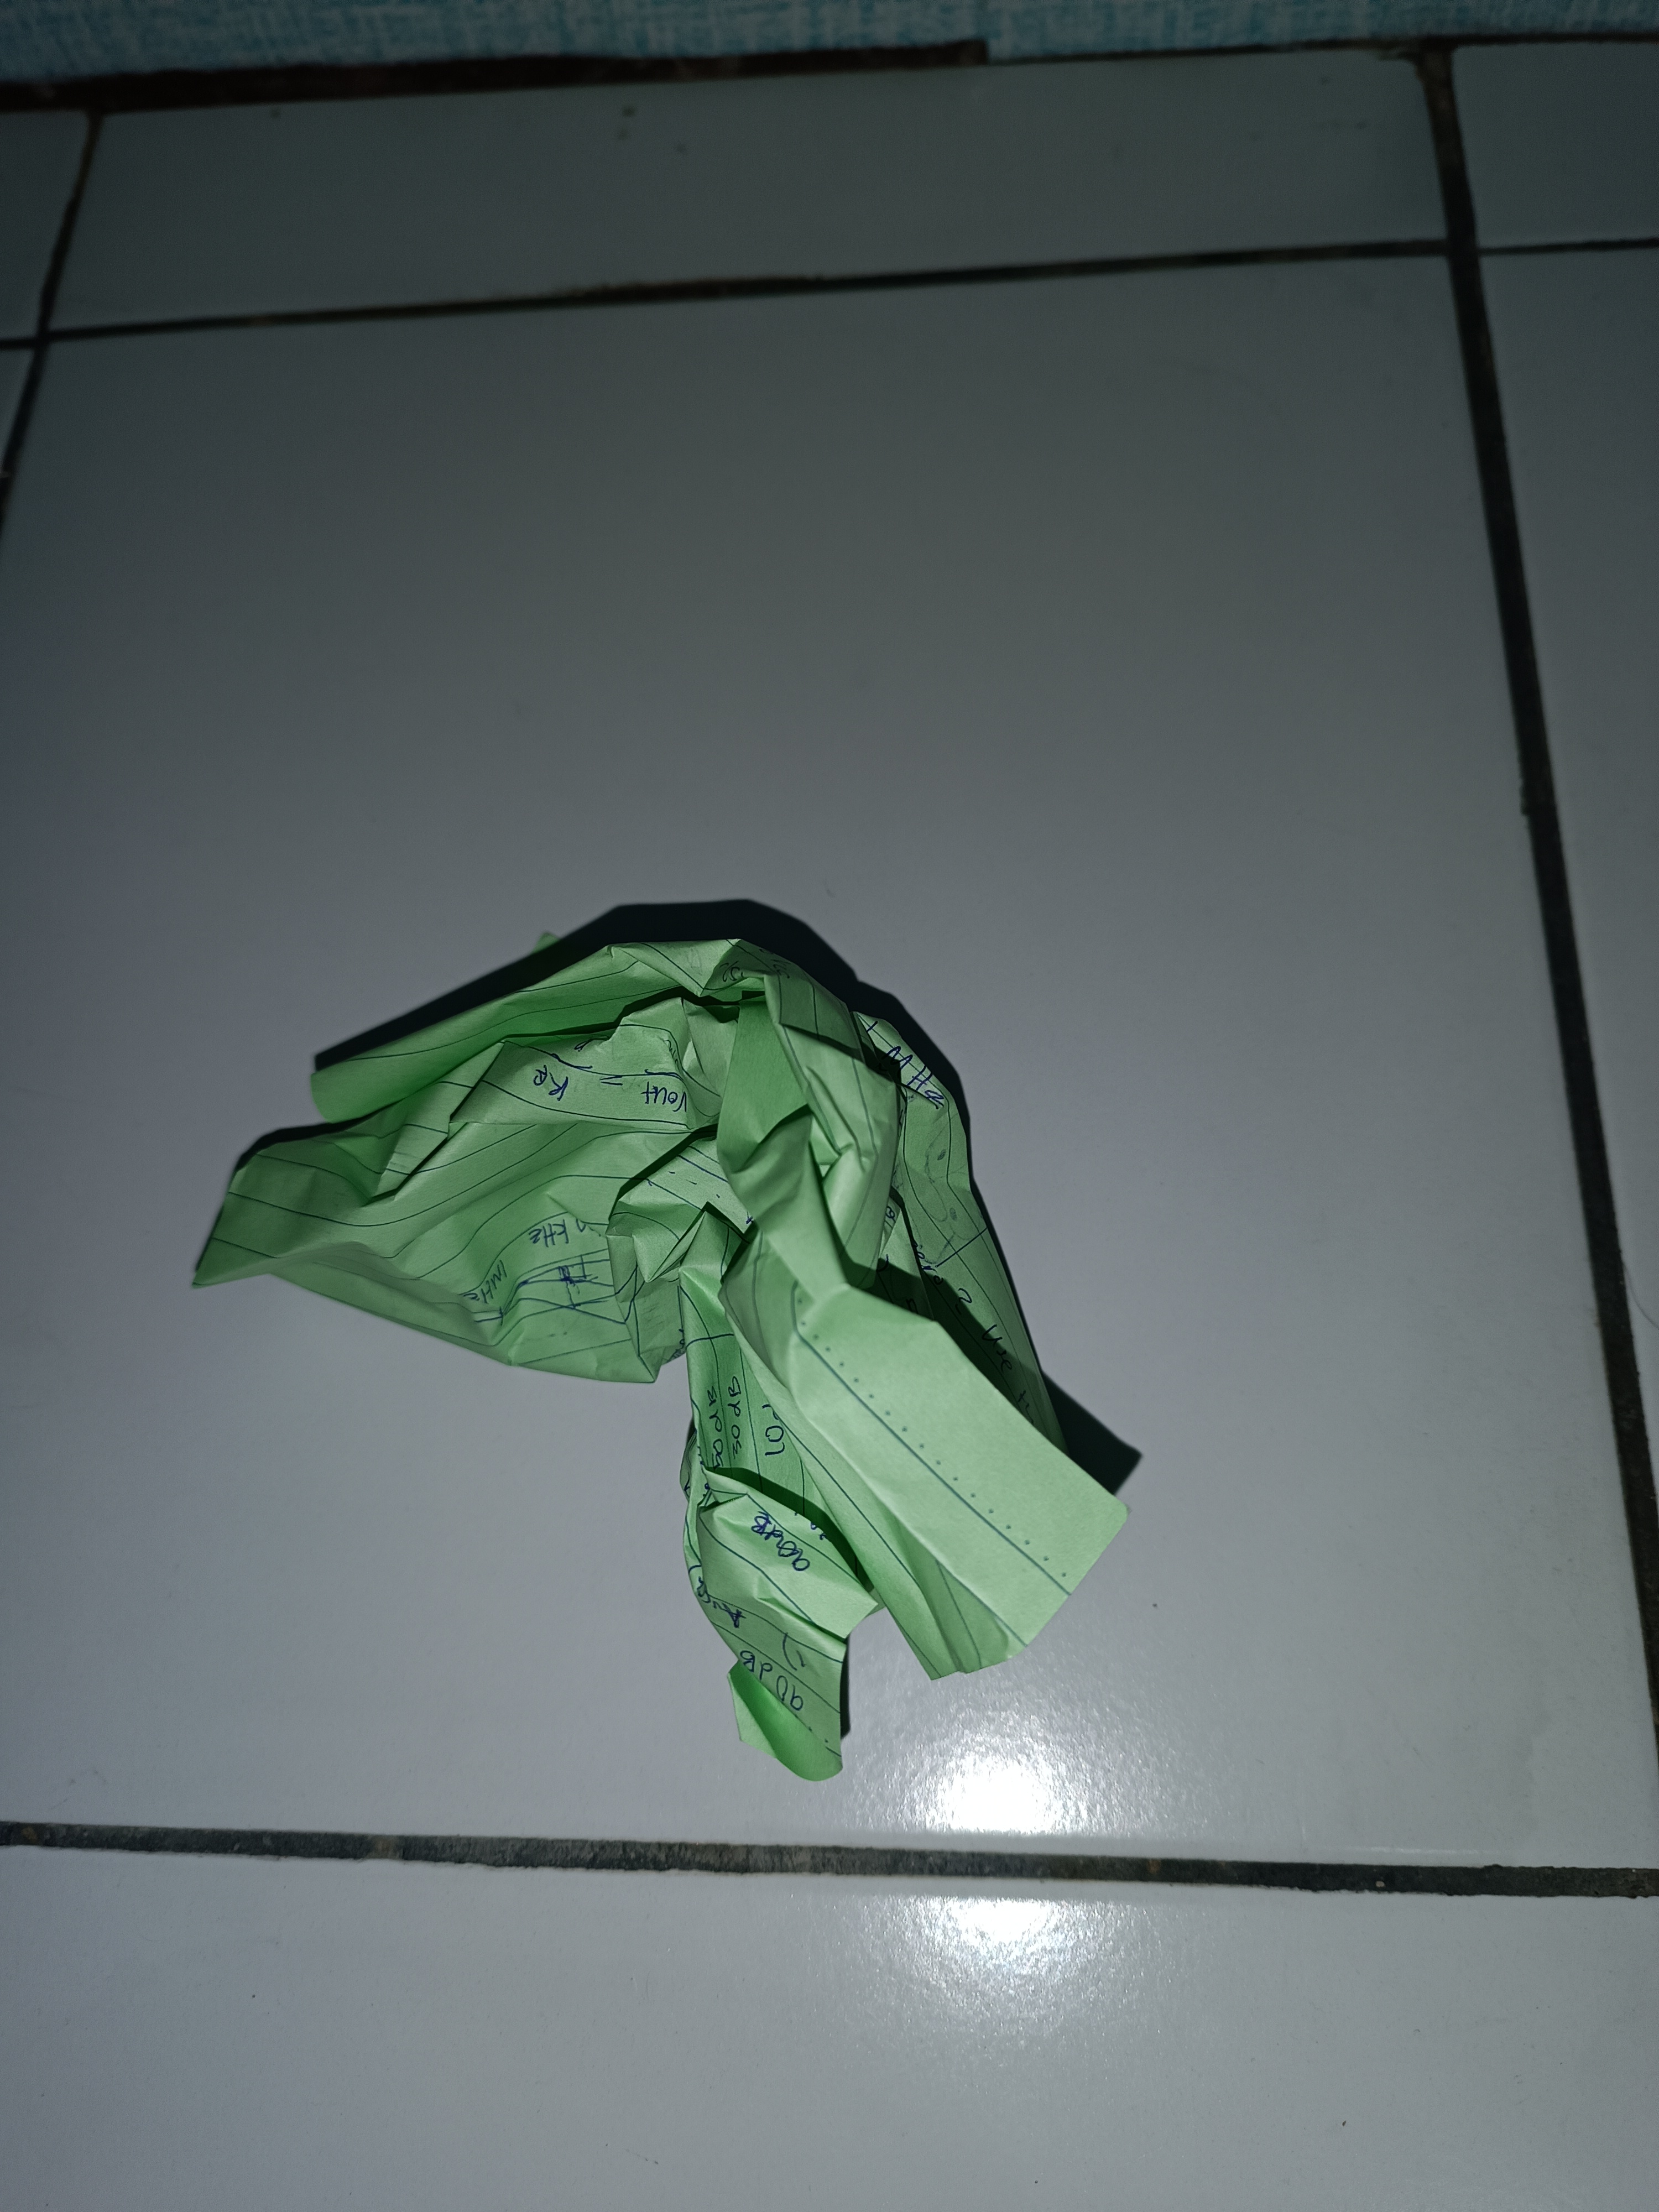Paper: (155, 799, 1154, 1892)
